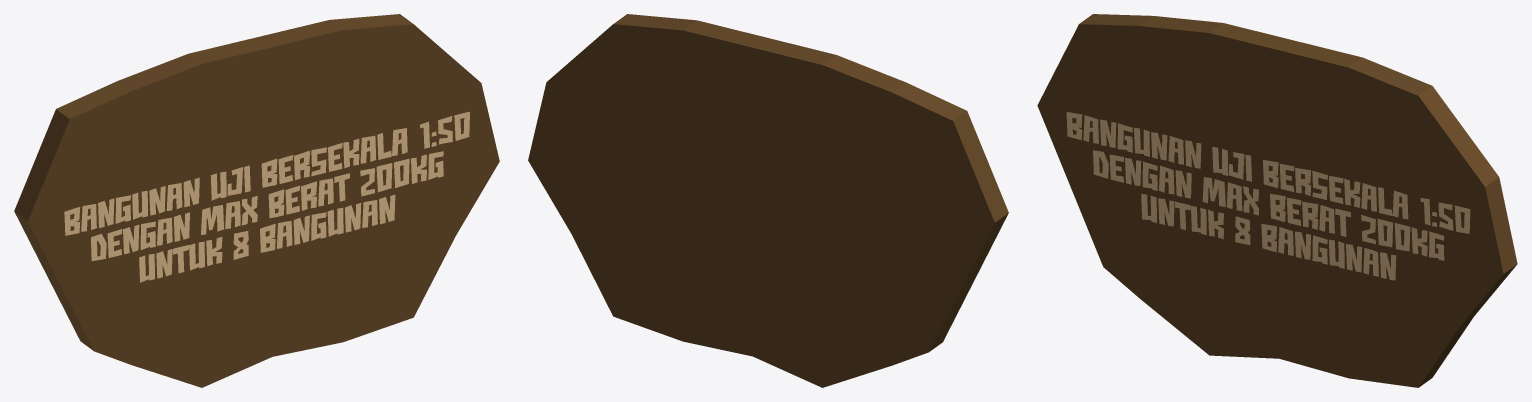
The model's file is ui_4_ShakingTable.fbx.
3 renders of one model, left to right at view 1: azimuth 30°, elevation 25°; view 2: azimuth 150°, elevation 25°; view 3: azimuth 330°, elevation 25°, orthographic.
Visible parts, largest first — view 1: Cube.003, Text.002; view 2: Cube.003; view 3: Cube.003, Text.002.
Boxes of the visible parts, <box> form: Cube.003: <box>14,14,499,387</box>; Text.002: <box>64,111,469,282</box>; Cube.003: <box>528,14,1008,387</box>; Cube.003: <box>1037,14,1517,387</box>; Text.002: <box>1066,112,1470,280</box>.
Bounding box in the file's own units: 256 × 168 × 16.51.
